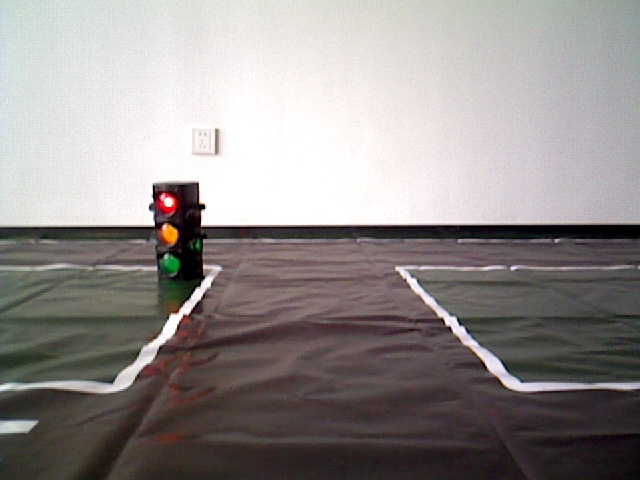red: (152, 184, 199, 276)
